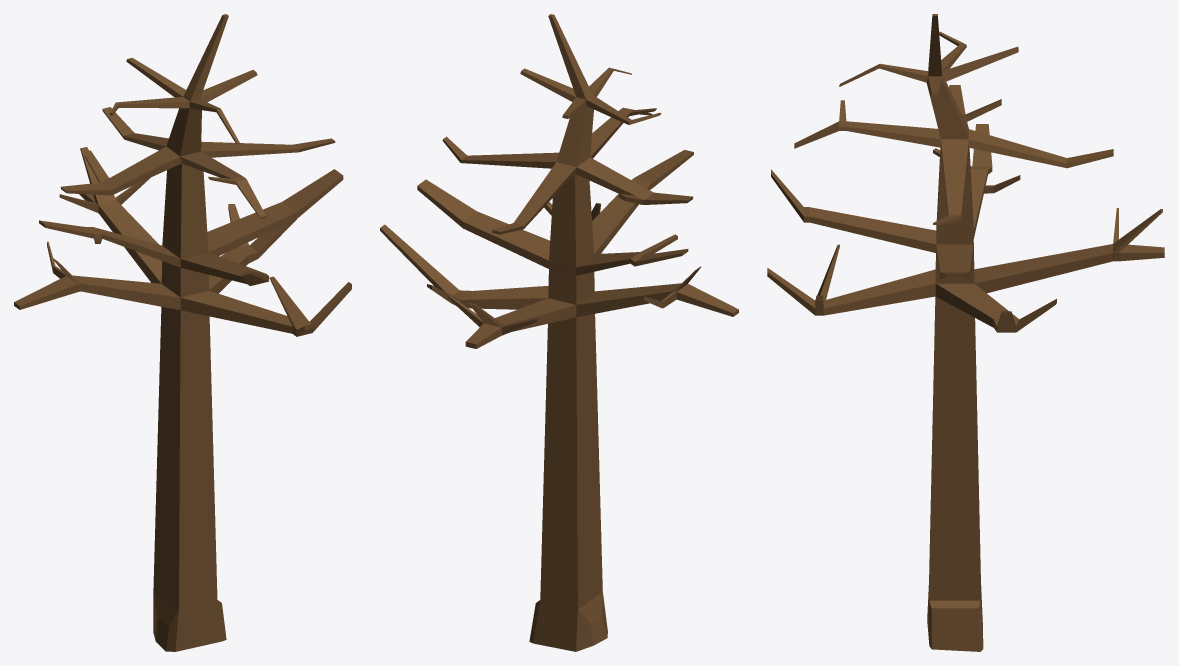
File: Tree7.fbx
3 views of the same model, side by side, from view 1: azimuth 30°, elevation 25°; view 2: azimuth 150°, elevation 25°; view 3: azimuth 270°, elevation 25° (orthographic). The views are drawn at different scales.
Visible parts, largest first — view 1: Cube.006; view 2: Cube.006; view 3: Cube.006.
Boxes of the visible parts, left/top/right/bottom form: Cube.006: left=14, top=14, right=351, bottom=651; Cube.006: left=380, top=14, right=738, bottom=651; Cube.006: left=767, top=14, right=1164, bottom=651.
Bounding box in the file's own units: 1746 × 3098 × 1752.
